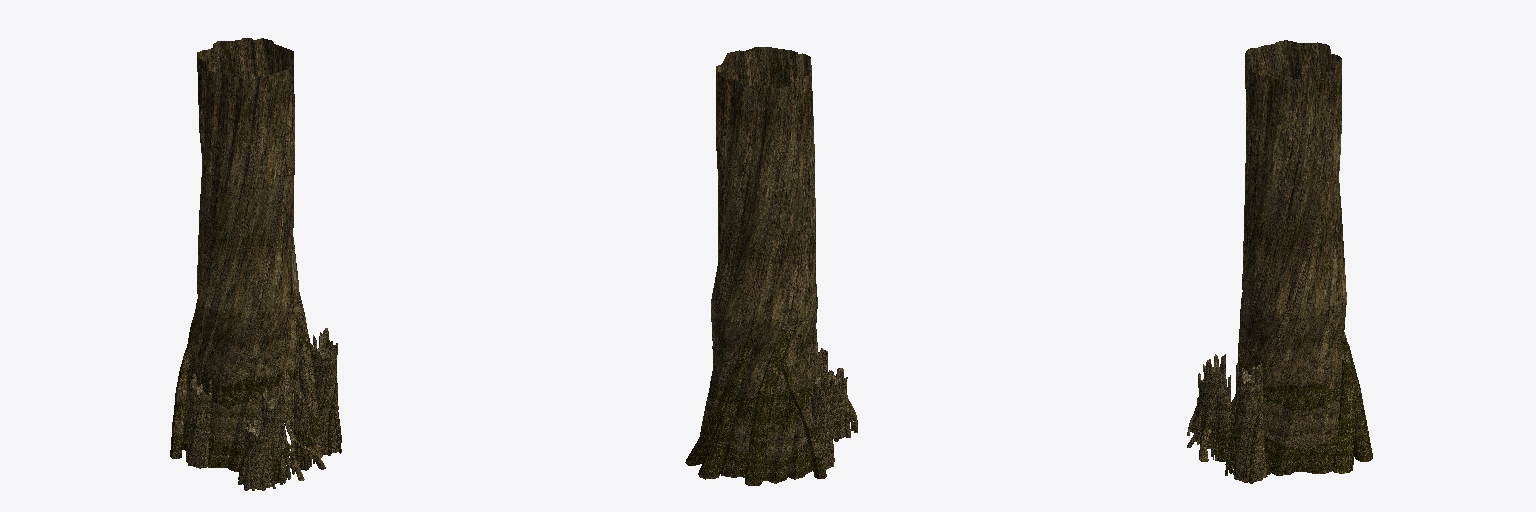
3 views of the same model, side by side, from view 1: azimuth 30°, elevation 25°; view 2: azimuth 150°, elevation 25°; view 3: azimuth 270°, elevation 25° (orthographic).
Parts seen in each view (by area): view 1: mesh3, mesh5, mesh7, mesh6, mesh0, mesh2, mesh4, mesh1; view 2: mesh3, mesh2, mesh7, mesh0, mesh4, mesh6; view 3: mesh3, mesh7, mesh2, mesh6, mesh5, mesh0, mesh4.
Boxes of the visible parts, x1,y1,x2,y2 form: mesh3: [172, 38, 338, 466]; mesh5: [238, 292, 325, 490]; mesh7: [183, 365, 309, 483]; mesh6: [244, 328, 337, 459]; mesh0: [186, 374, 339, 489]; mesh2: [170, 313, 341, 469]; mesh4: [242, 335, 320, 466]; mesh1: [192, 330, 334, 436]; mesh3: [701, 47, 848, 460]; mesh2: [685, 326, 841, 485]; mesh7: [699, 365, 840, 483]; mesh0: [811, 376, 850, 469]; mesh4: [701, 400, 852, 450]; mesh6: [818, 348, 848, 406]; mesh3: [1198, 40, 1346, 447]; mesh7: [1200, 356, 1340, 475]; mesh2: [1213, 332, 1372, 483]; mesh6: [1198, 354, 1262, 431]; mesh5: [1187, 292, 1293, 468]; mesh0: [1200, 432, 1267, 482]; mesh4: [1195, 356, 1364, 441].
Size of the model in its own units: 207 by 538 by 234.
8 materials, 4 textured.